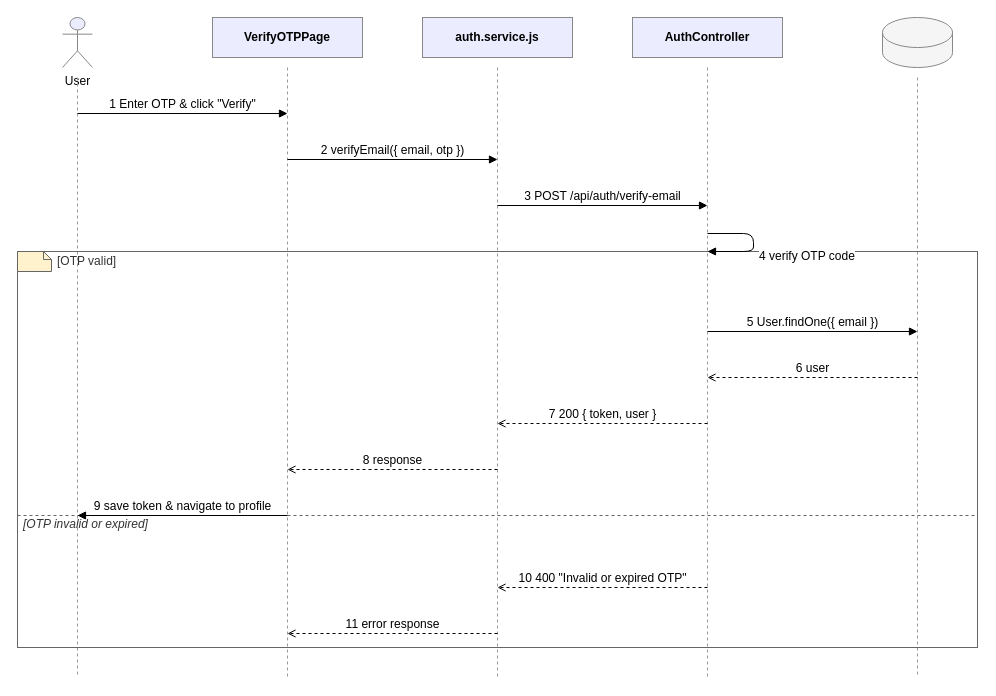
The diagram is 996 pixels wide and 696 high, and some of its shapes have lost their labels. Here are the shapes that lost their labels. From the top down, the box of each, then its label:
(882, 16, 952, 68): MongoDB
(16, 250, 52, 272): alt
